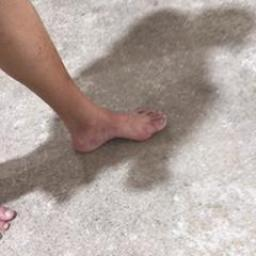Medial View -Left Foot-: (50, 97, 175, 158)
